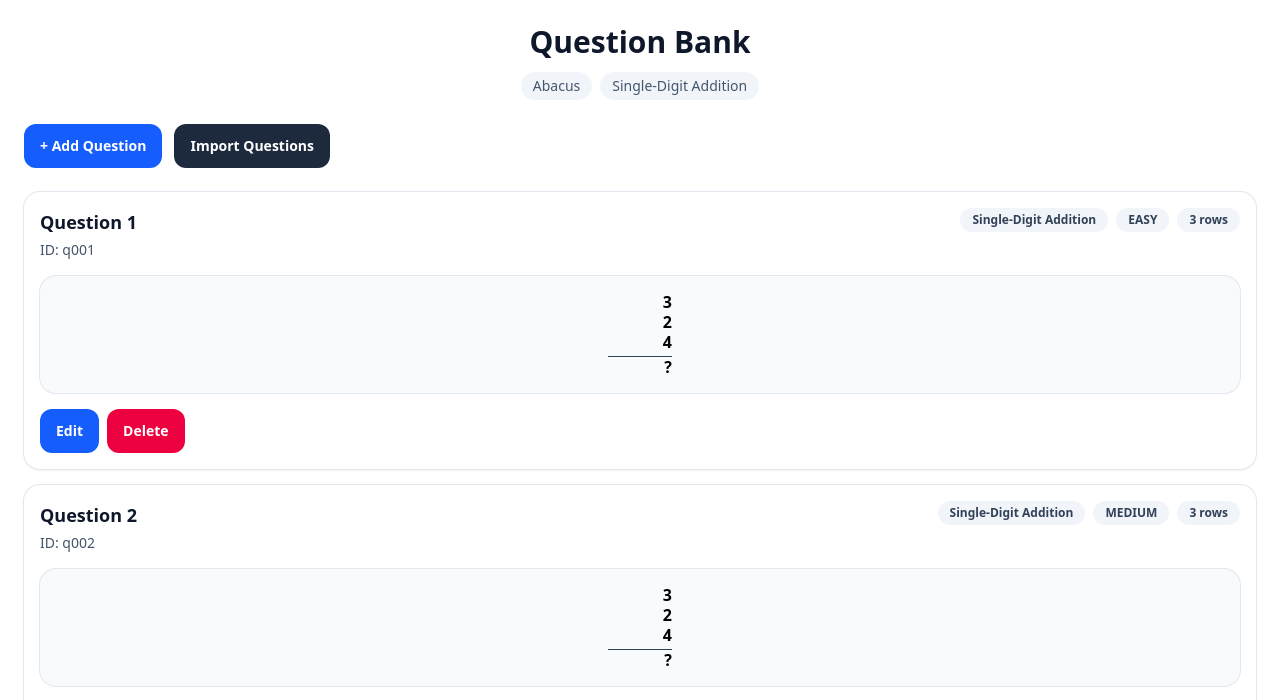
QuestionBankComponent › Add Question opens QuestionFormComponent
The width and height of the screenshot is (1280, 700).
Click the button "+ Add Question".
click(93, 146)  # box [24,124,162,168]
(page scrolled)
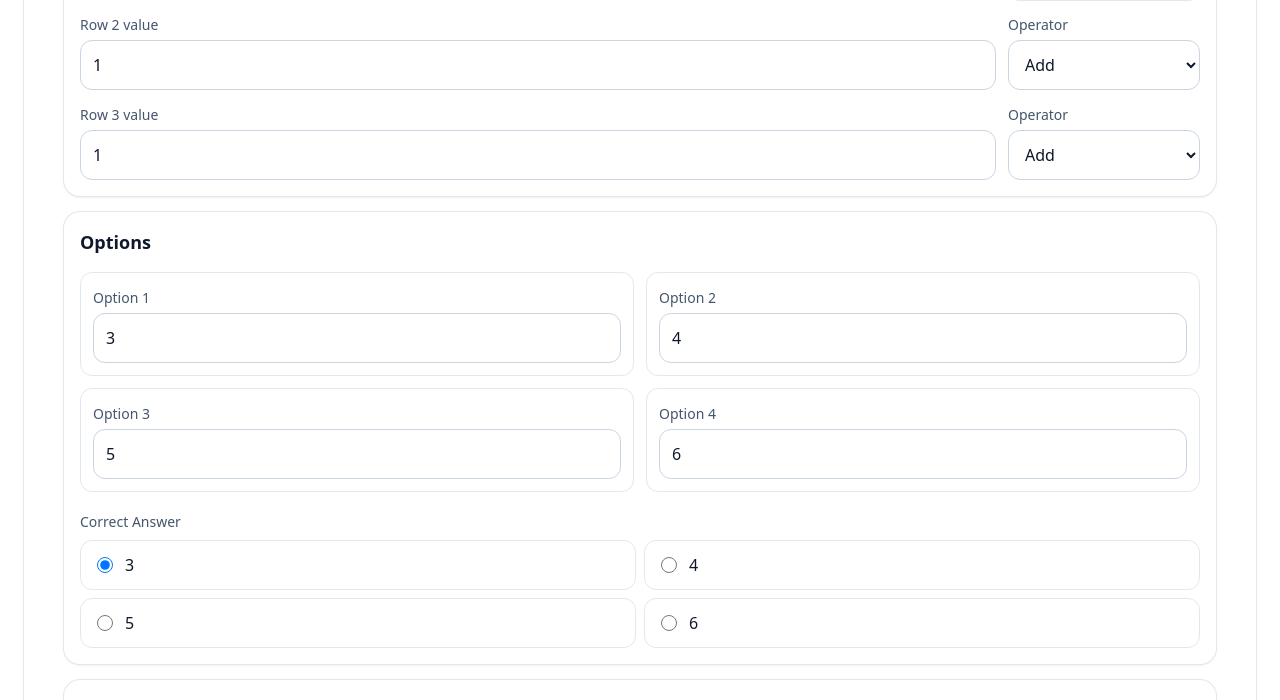
Result: the element with test id "question-card" is gone
